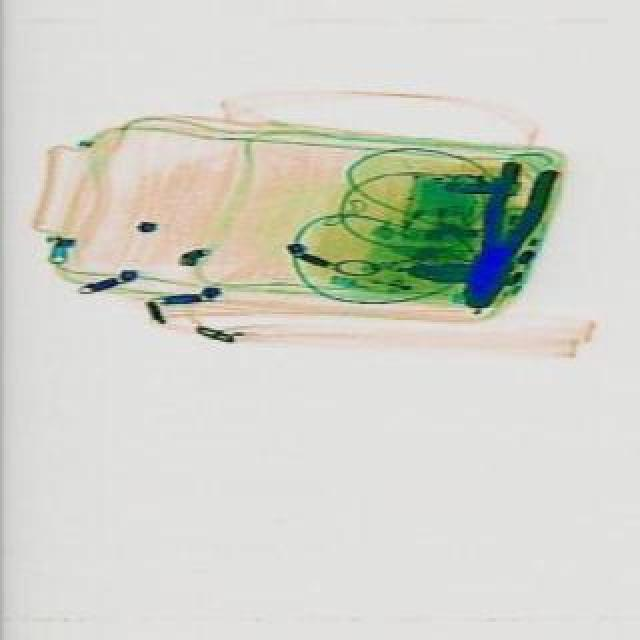wrench: (446, 156, 554, 320)
